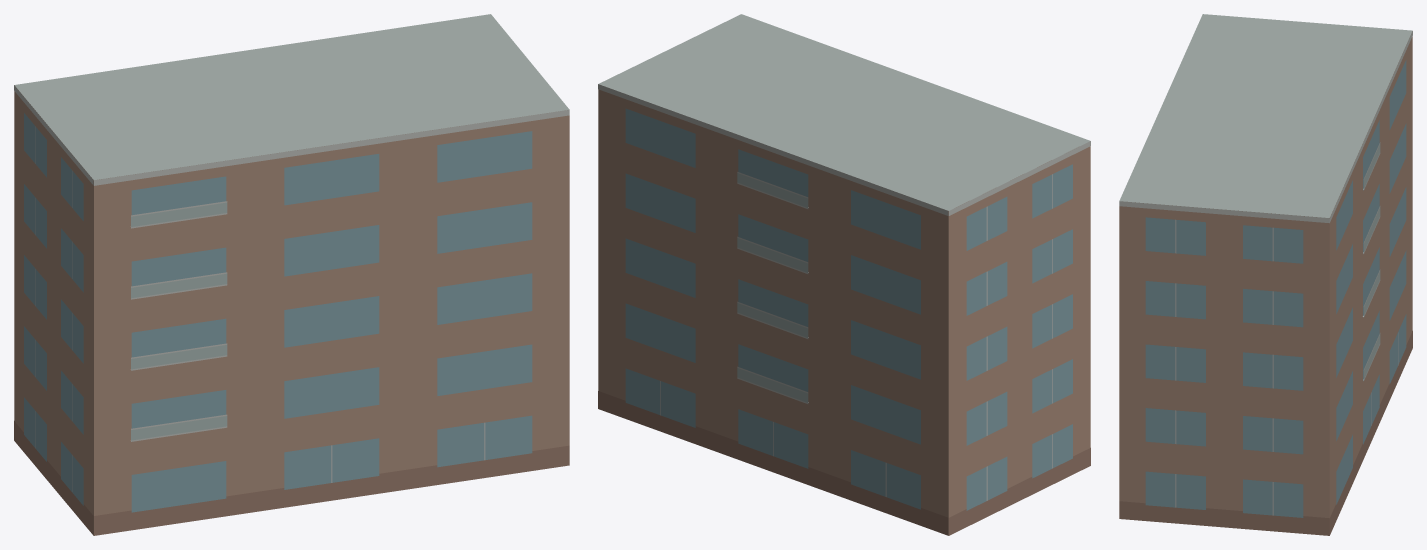
The model's file is survey-upis-32700978.glb.
3 views of the same model, side by side, from view 1: azimuth 30°, elevation 25°; view 2: azimuth 150°, elevation 25°; view 3: azimuth 270°, elevation 25° (orthographic). The views are drawn at different scales.
Visible parts, largest first — view 1: survey-upis-32700978.tmp; view 2: survey-upis-32700978.tmp; view 3: survey-upis-32700978.tmp.
Part boxes in pixels (x1,y1,x2,y2): survey-upis-32700978.tmp: (14, 14, 569, 535); survey-upis-32700978.tmp: (598, 14, 1090, 535); survey-upis-32700978.tmp: (1119, 14, 1412, 535).
Bounding box in the file's own units: 21.02 × 15.25 × 12.77.
